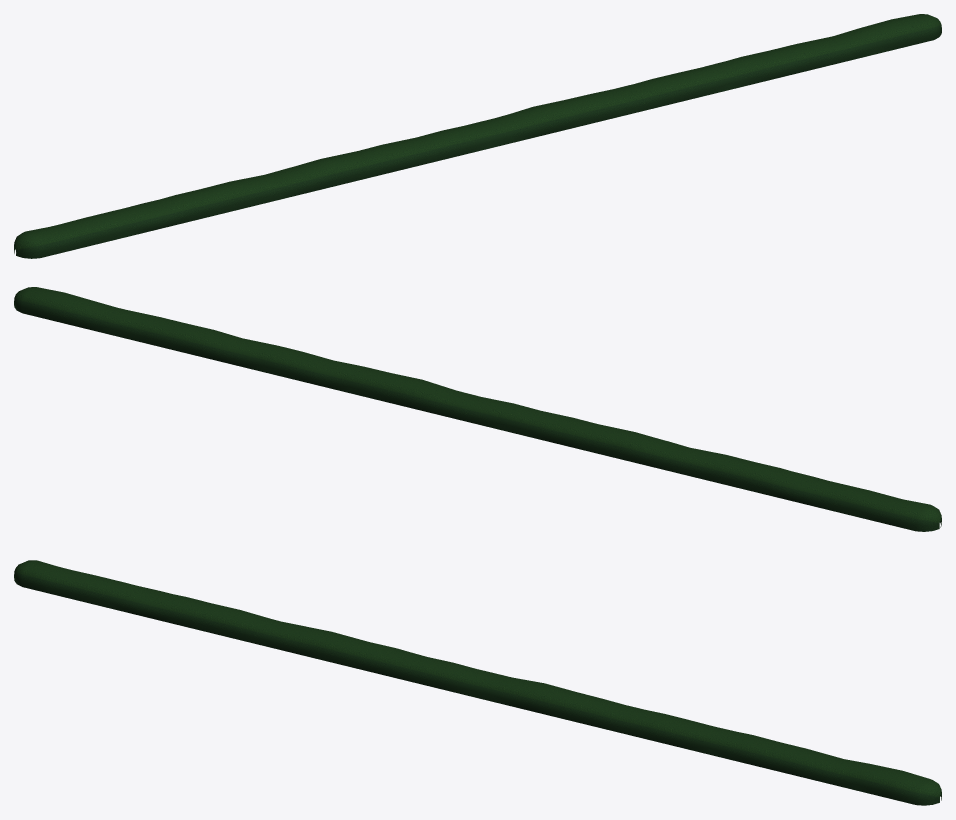
File: hedge_strip.fbx
3 renders of one model, top to bottom at view 1: azimuth 30°, elevation 25°; view 2: azimuth 150°, elevation 25°; view 3: azimuth 330°, elevation 25°, orthographic.
Visible parts, largest first — view 1: HedgeStrip; view 2: HedgeStrip; view 3: HedgeStrip.
Part boxes in pixels (x1,y1,x2,y2): HedgeStrip: (14,14,941,258); HedgeStrip: (14,287,941,531); HedgeStrip: (14,560,941,805).
Bounding box in the file's own units: 60 × 1.13 × 2.31.
